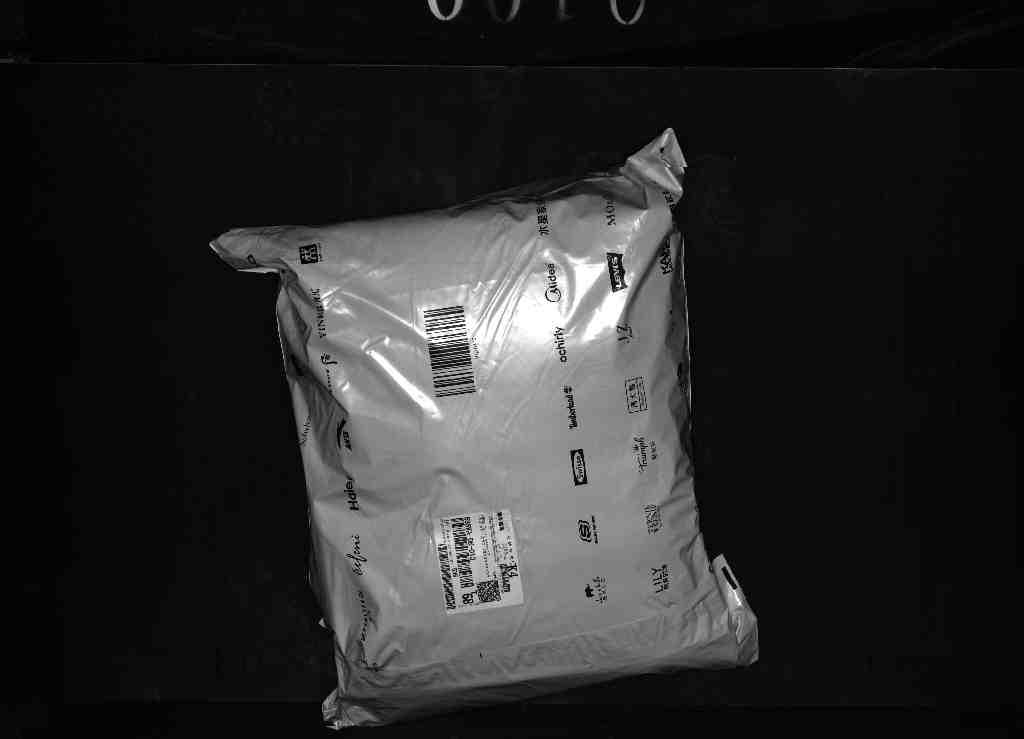box: (211, 133, 764, 726)
